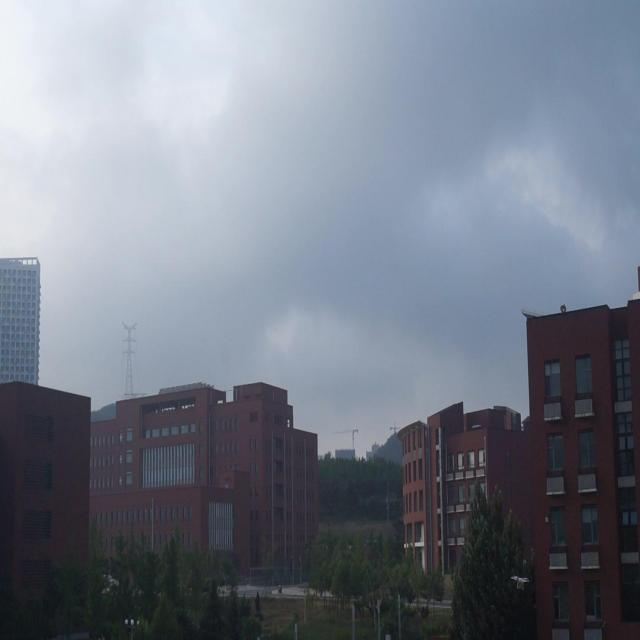UAV: (510, 576, 530, 590)
